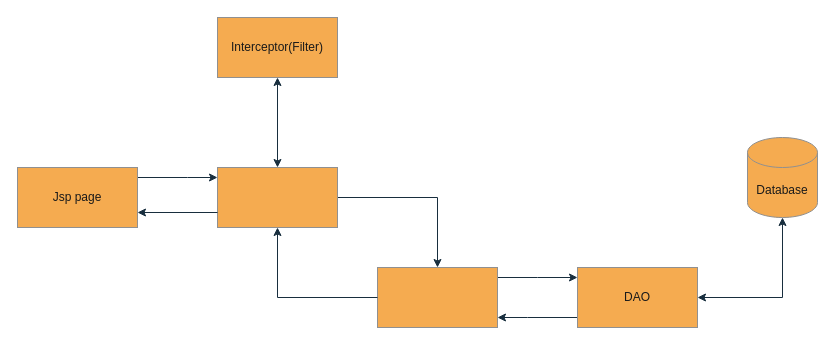
Some shapes in this 835 by 345 pixel diagram are drawn without their labels. The centre of each missing label's shape, as x and y in pixels:
Action.java: the point at 437,297
Struts.xml: the point at 277,197
